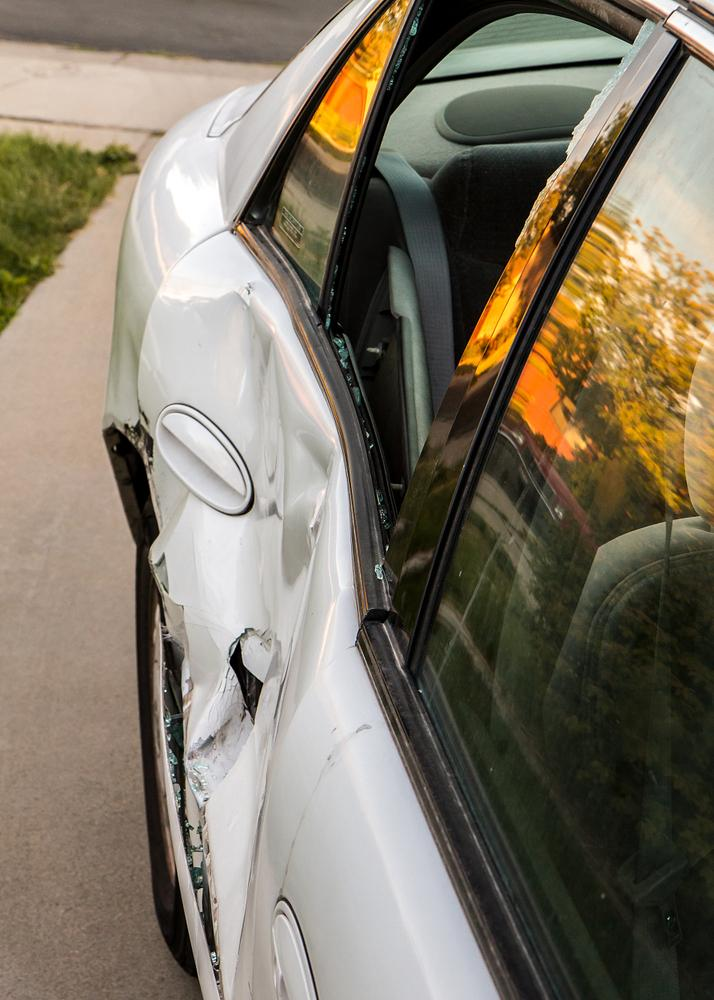crack: (228, 634, 265, 726)
dent: (165, 296, 334, 635), (165, 597, 224, 742)
